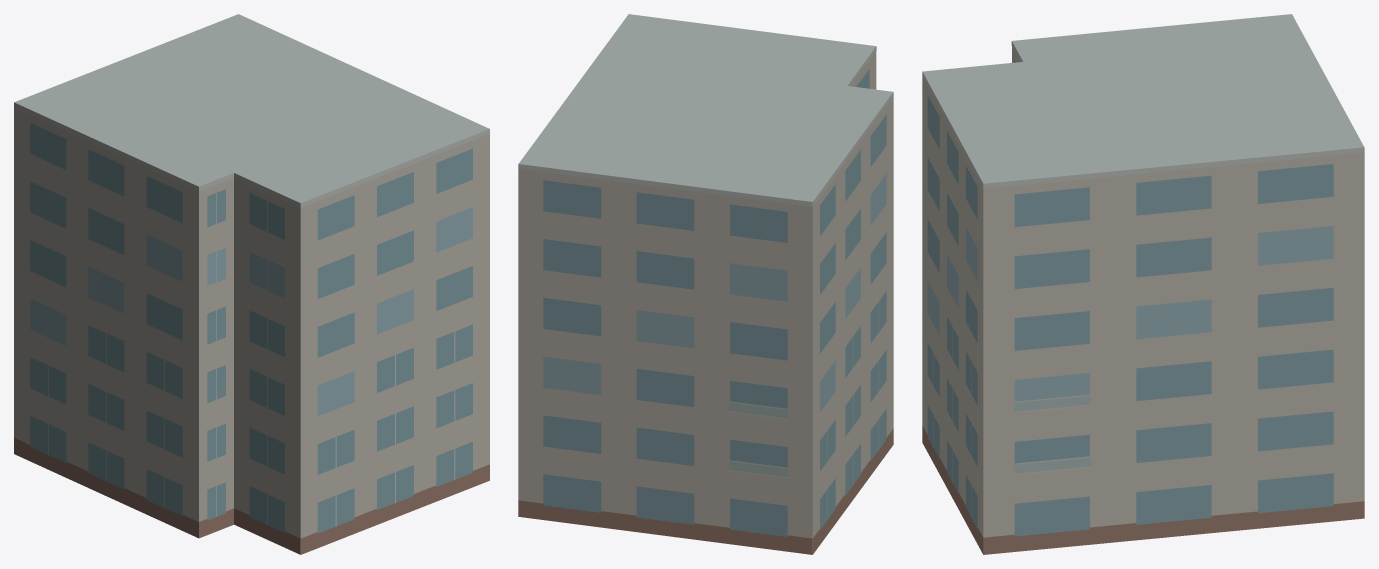
File: survey-upis-32976830.glb
3 views of the same model, side by side, from view 1: azimuth 30°, elevation 25°; view 2: azimuth 150°, elevation 25°; view 3: azimuth 270°, elevation 25° (orthographic). The views are drawn at different scales.
Parts seen in each view (by area): view 1: survey-upis-32976830.tmp; view 2: survey-upis-32976830.tmp; view 3: survey-upis-32976830.tmp.
Part boxes in pixels (box(x1,y1,x2,y2)): survey-upis-32976830.tmp: box(14, 14, 489, 554); survey-upis-32976830.tmp: box(518, 14, 893, 554); survey-upis-32976830.tmp: box(922, 14, 1364, 554).
Bounding box in the file's own units: 17.42 × 17.75 × 19.17.
